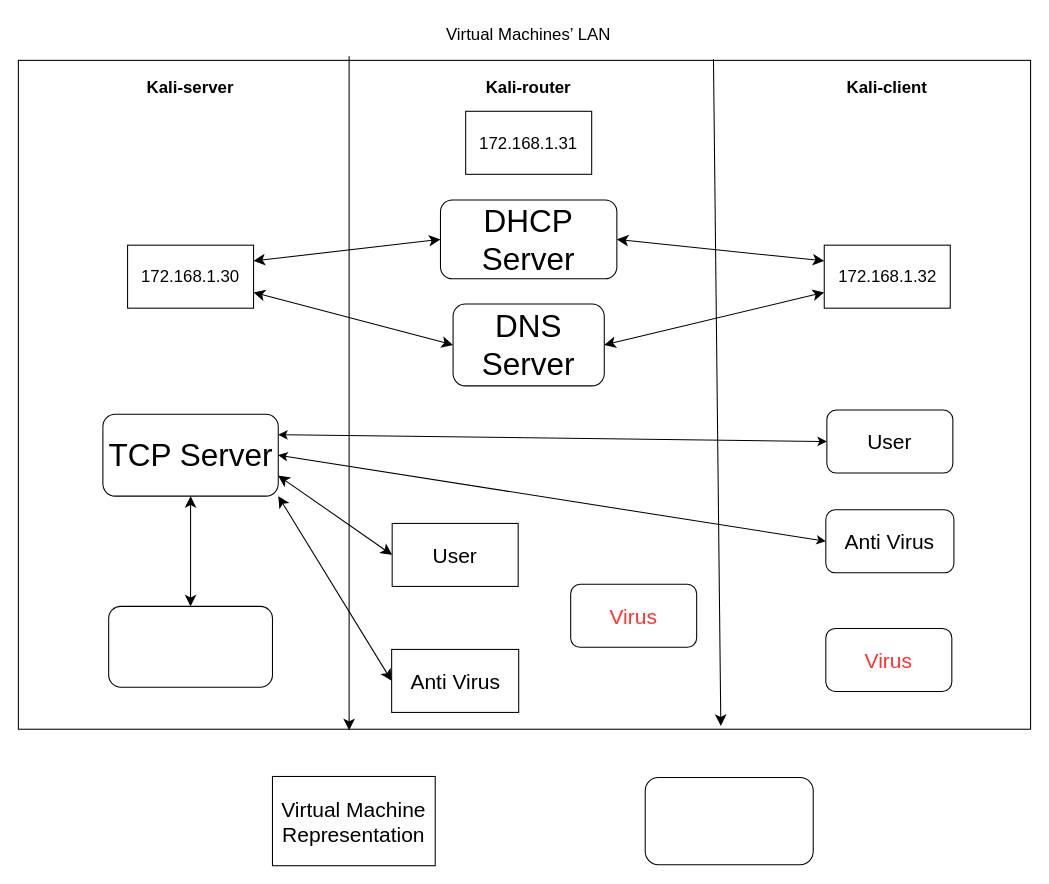
Image size: 1049x884. Some labels were removed from this diagram. Here are the shapes that lost their labels. From the top down, the box of each, then its label:
(108, 605, 272, 687): Database
(644, 776, 813, 865): Program
